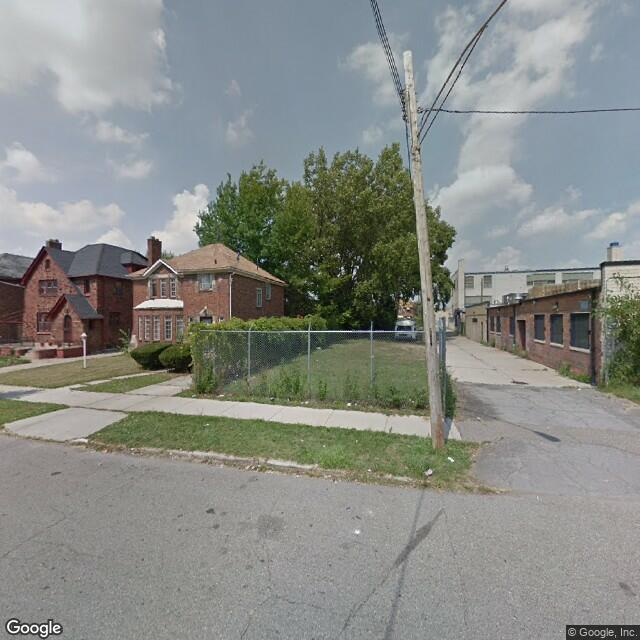litter: (243, 461, 261, 473), (422, 465, 433, 483), (447, 454, 458, 469), (320, 472, 343, 479), (345, 398, 359, 408), (298, 398, 314, 406), (214, 393, 228, 399), (130, 448, 145, 453)
